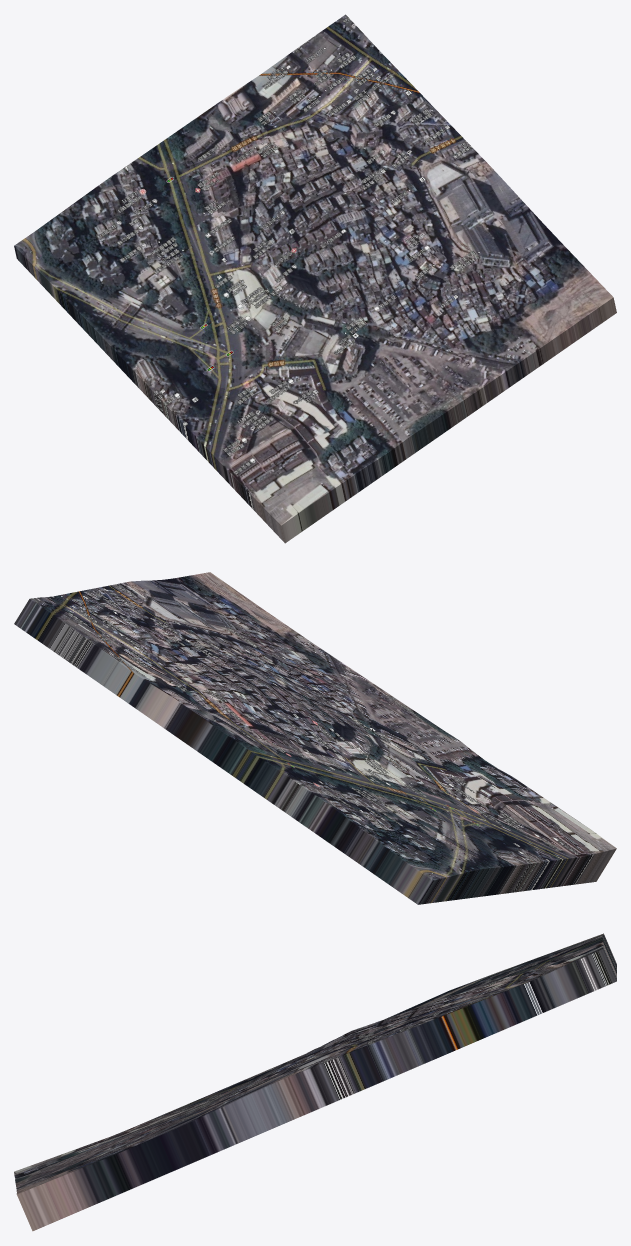
3 views of the same model, one above another, from view 1: azimuth 30°, elevation 25°; view 2: azimuth 150°, elevation 25°; view 3: azimuth 270°, elevation 25° (orthographic). The views are drawn at different scales.
Parts seen in each view (by area): view 1: 0_1_22; view 2: 0_1_22; view 3: 0_1_22.
Part boxes in pixels (left/top/right/bottom): 0_1_22: left=14, top=14, right=616, bottom=543; 0_1_22: left=14, top=572, right=616, bottom=904; 0_1_22: left=14, top=933, right=616, bottom=1231.
Bounding box in the file's own units: 603 × 456 × 559.
Materials: 1 (1 with a texture image).
